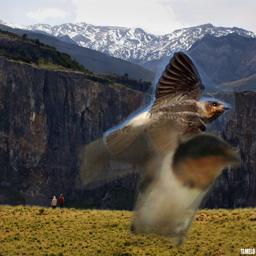Swallow: (75, 114, 241, 248), (103, 49, 235, 169)
